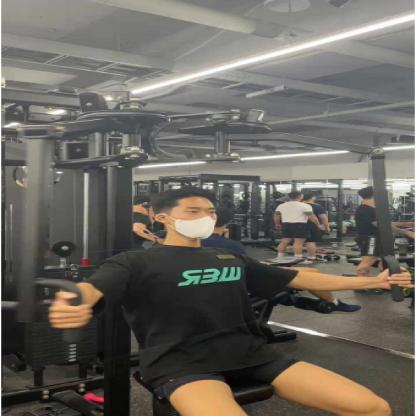chest fly machine: (0, 70, 416, 416)
